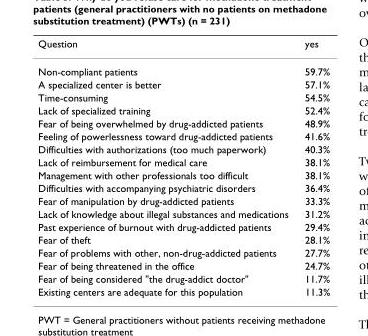table: (37, 37, 329, 297)
table column: (37, 37, 295, 297), (295, 37, 329, 297)
table column header: (37, 37, 329, 57)
table row: (37, 37, 329, 57), (37, 57, 329, 77), (37, 77, 329, 90), (37, 90, 329, 103), (37, 103, 329, 116), (37, 116, 329, 129), (37, 129, 329, 142), (37, 142, 329, 155), (37, 155, 329, 168), (37, 168, 329, 181), (37, 181, 329, 194), (37, 194, 329, 207), (37, 219, 329, 232), (37, 232, 329, 245), (37, 245, 329, 258), (37, 258, 329, 271), (37, 271, 329, 284), (37, 284, 329, 297), (37, 207, 329, 219)
